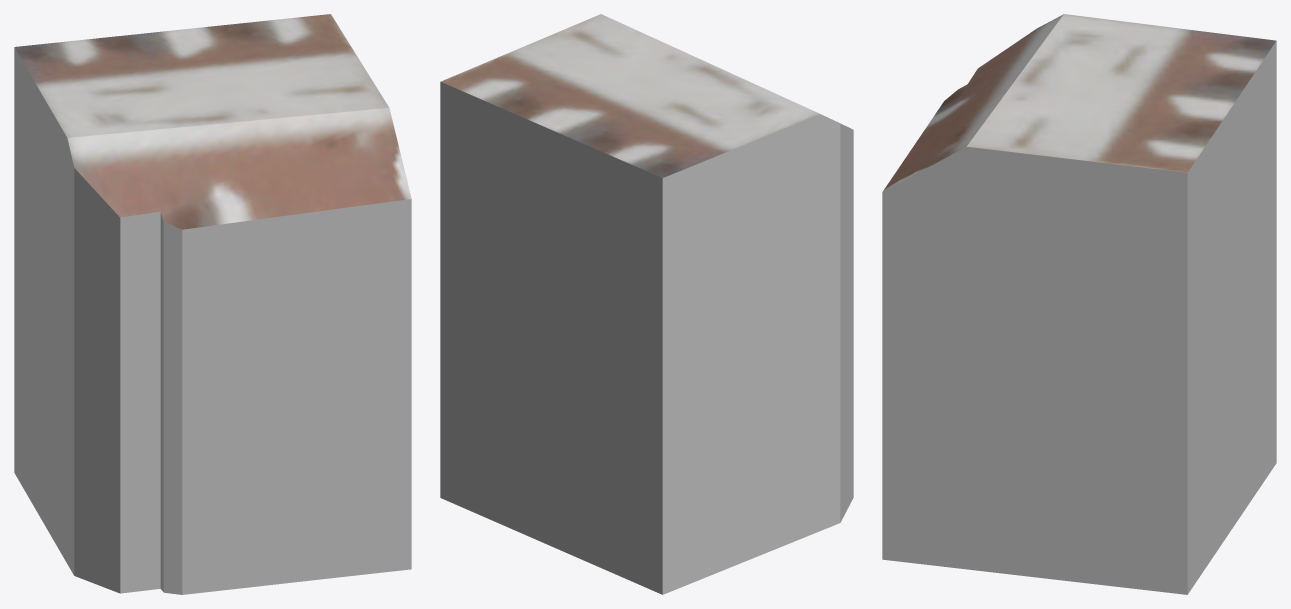
Rendered from DEBW_0010007Txas.gltf.
The picture shows the model from 3 angles, left to right: view 1: azimuth 30°, elevation 25°; view 2: azimuth 150°, elevation 25°; view 3: azimuth 270°, elevation 25°; orthographic projection. The views are drawn at different scales.
Parts seen in each view (by area): view 1: Z_UP; view 2: Z_UP; view 3: Z_UP.
Part boxes in pixels (x1,y1,x2,y2): Z_UP: (14,14,411,594); Z_UP: (440,14,853,594); Z_UP: (882,14,1276,594).
Size of the model in its own units: 14.06 by 17.22 by 14.53.
2 materials, 1 textured.
